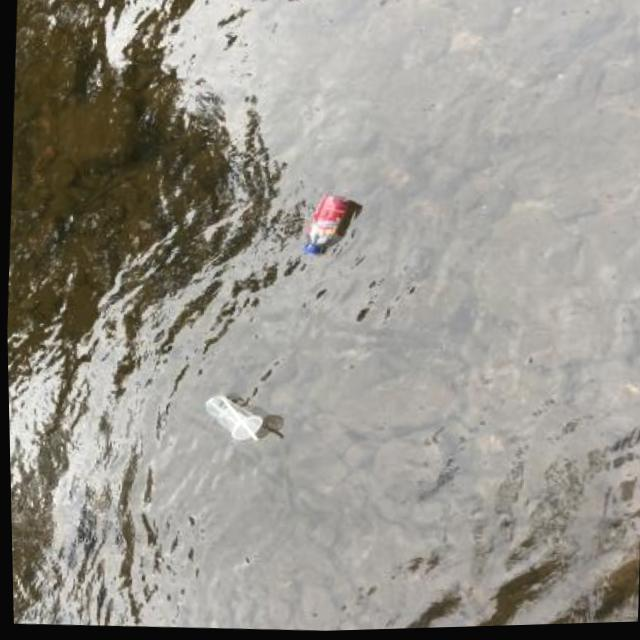Plastic: (189, 387, 273, 452), (290, 192, 360, 265)
